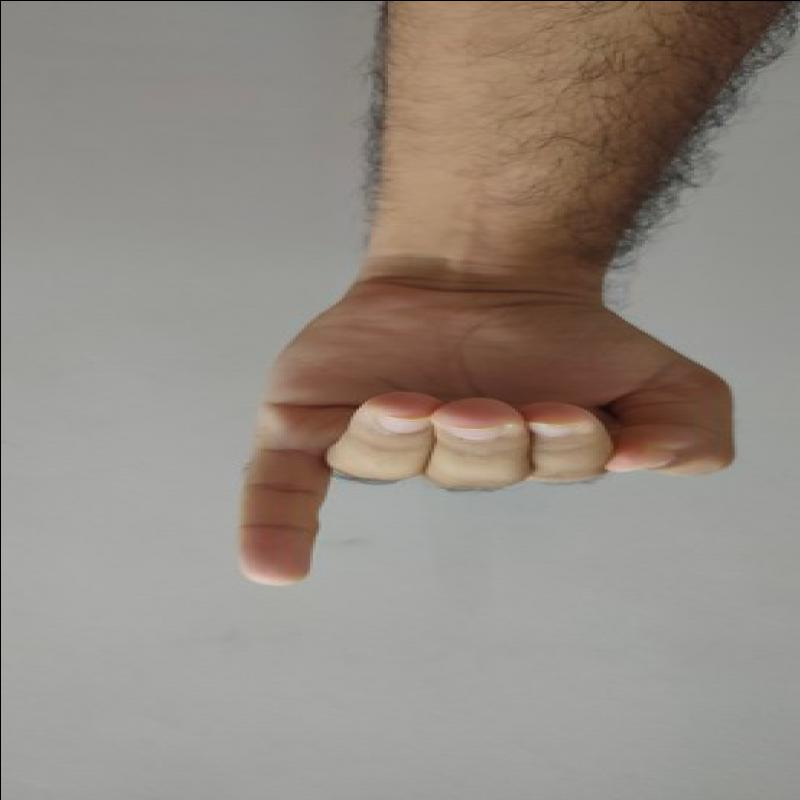Kartharee Mukham: (215, 261, 754, 611)
